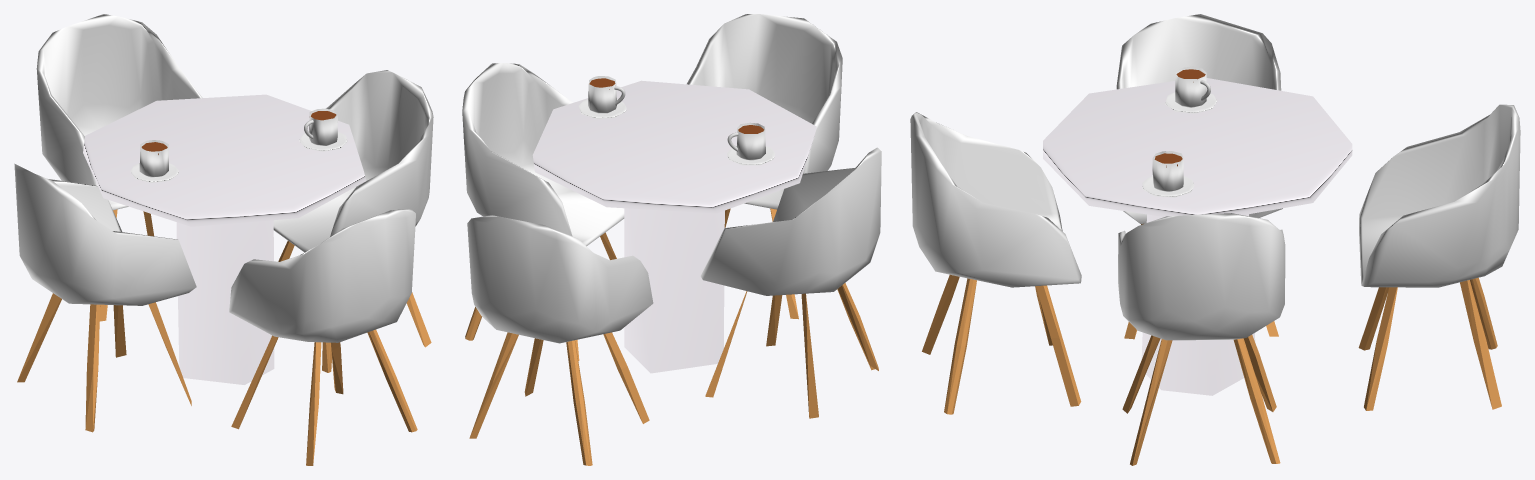
Rendered from X3Cocina.fbx.
The picture shows the model from 3 angles, left to right: view 1: azimuth 30°, elevation 25°; view 2: azimuth 150°, elevation 25°; view 3: azimuth 270°, elevation 25°; orthographic projection. The views are drawn at different scales.
Visible parts, largest first — view 1: Cilindro, Cilindro.014, Cilindro.021, Cilindro.013, Cilindro.024, Cilindro.004, Cilindro.002; view 2: Cilindro, Cilindro.013, Cilindro.021, Cilindro.024, Cilindro.014, Cilindro.004, Cilindro.002; view 3: Cilindro, Cilindro.013, Cilindro.014, Cilindro.024, Cilindro.021, Cilindro.002, Cilindro.004.
Boxes of the visible parts, x1,y1,x2,y2 form: Cilindro: [83, 94, 365, 384]; Cilindro.014: [229, 209, 417, 465]; Cilindro.021: [14, 163, 196, 432]; Cilindro.013: [36, 14, 202, 321]; Cilindro.024: [273, 70, 433, 372]; Cilindro.004: [130, 140, 178, 182]; Cilindro.002: [299, 108, 347, 151]; Cilindro: [532, 80, 816, 373]; Cilindro.013: [467, 215, 653, 465]; Cilindro.021: [700, 147, 881, 418]; Cilindro.024: [462, 63, 624, 360]; Cilindro.014: [687, 14, 842, 319]; Cilindro.004: [727, 122, 775, 165]; Cilindro.002: [578, 76, 626, 118]; Cilindro: [1043, 78, 1352, 395]; Cilindro.013: [1358, 104, 1520, 410]; Cilindro.014: [910, 112, 1081, 414]; Cilindro.024: [1118, 213, 1285, 465]; Cilindro.021: [1116, 14, 1282, 339]; Cilindro.002: [1142, 151, 1194, 197]; Cilindro.004: [1165, 66, 1217, 113].
Size of the model in its own units: 579 by 350 by 737.
